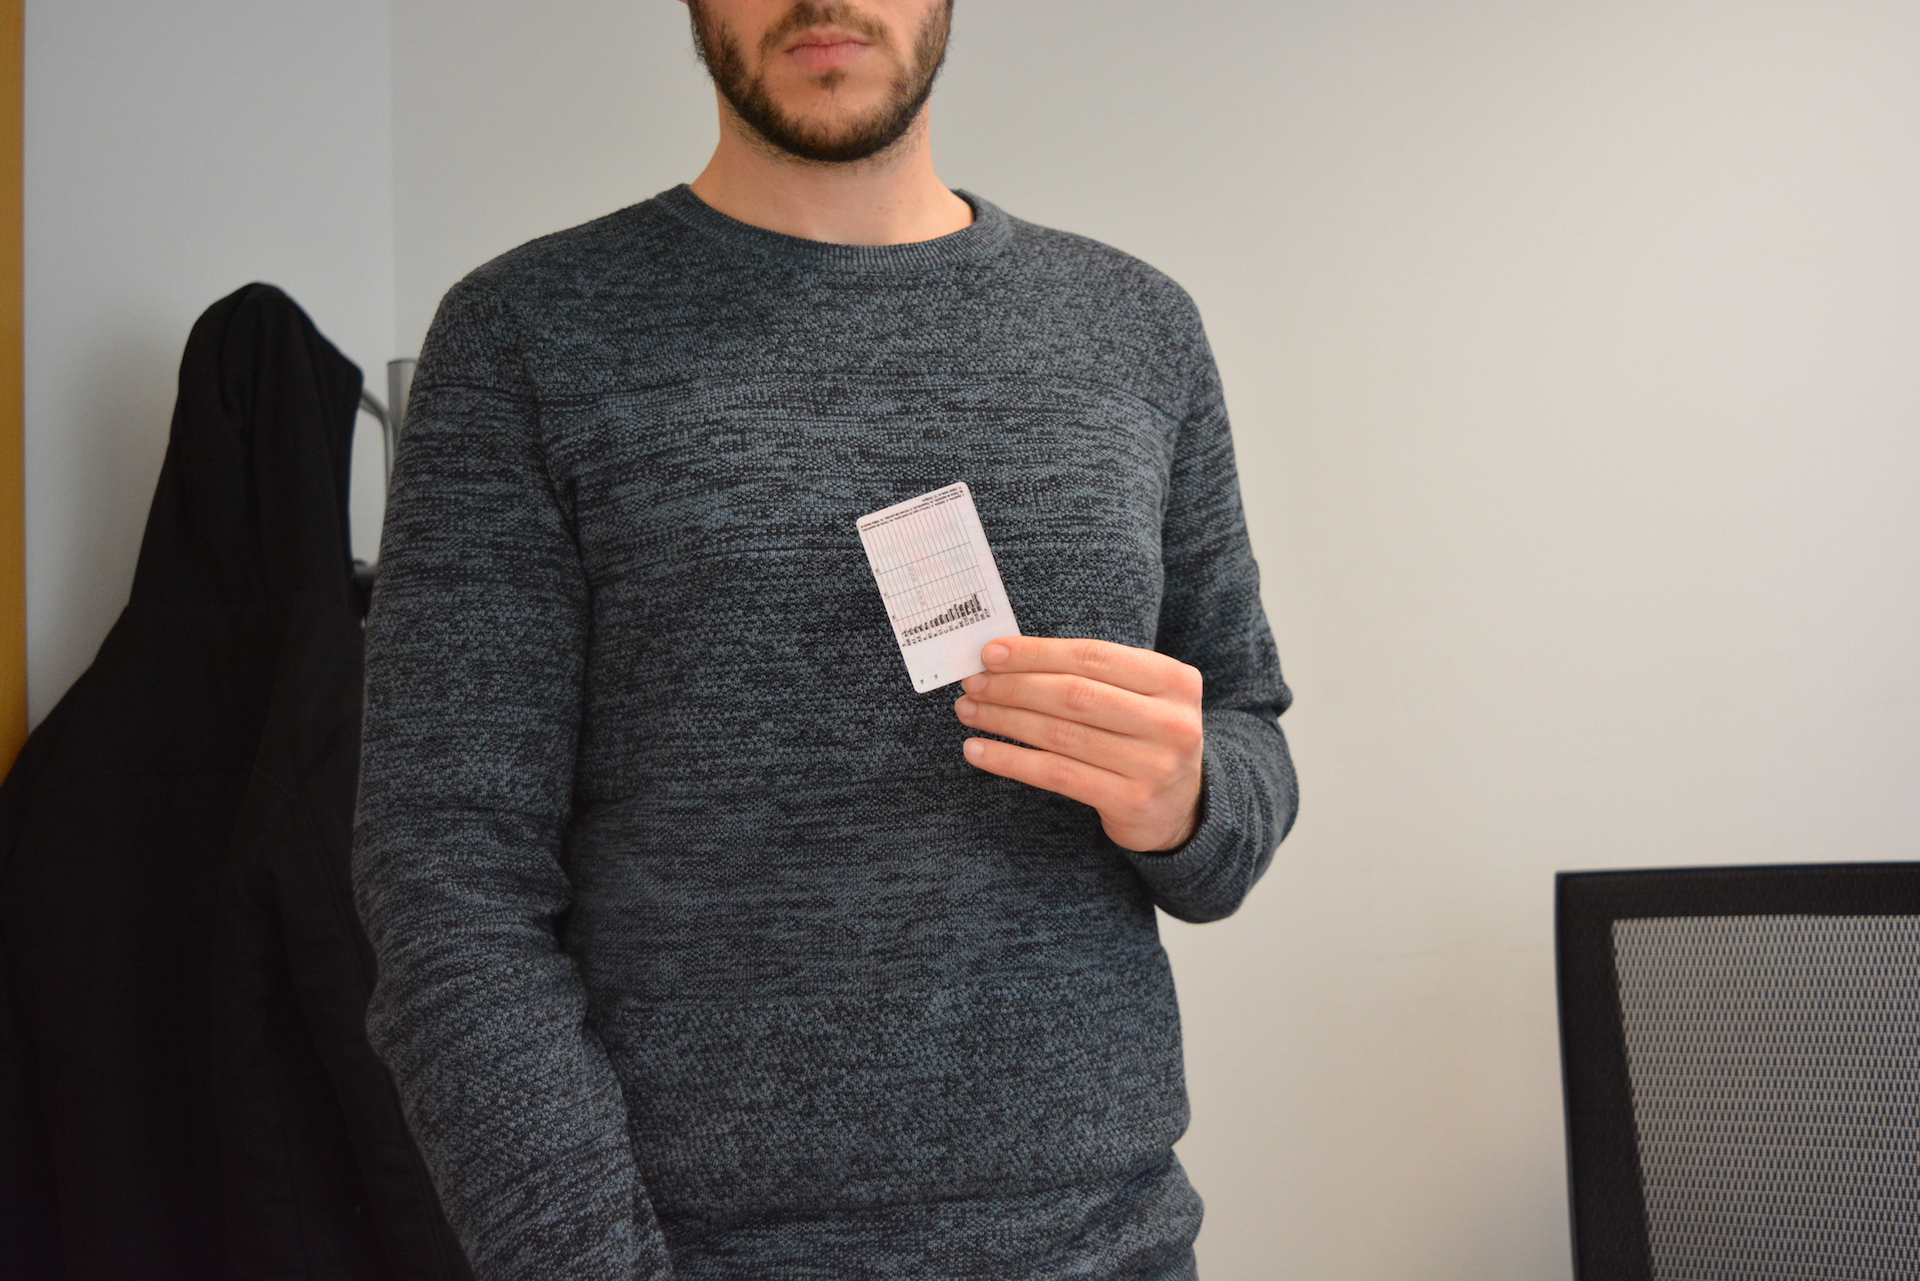tarjeta: (855, 479, 1024, 695)
